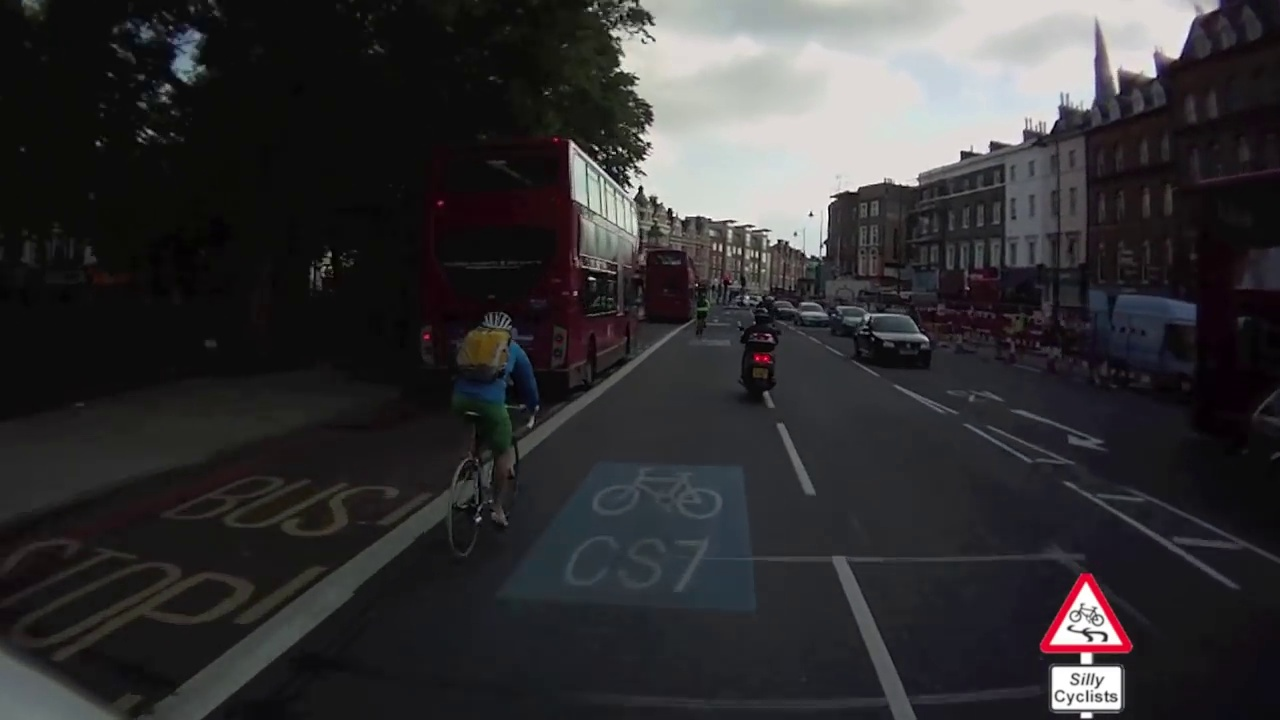cyclist_back: (443, 315, 546, 555), (741, 300, 781, 406)
